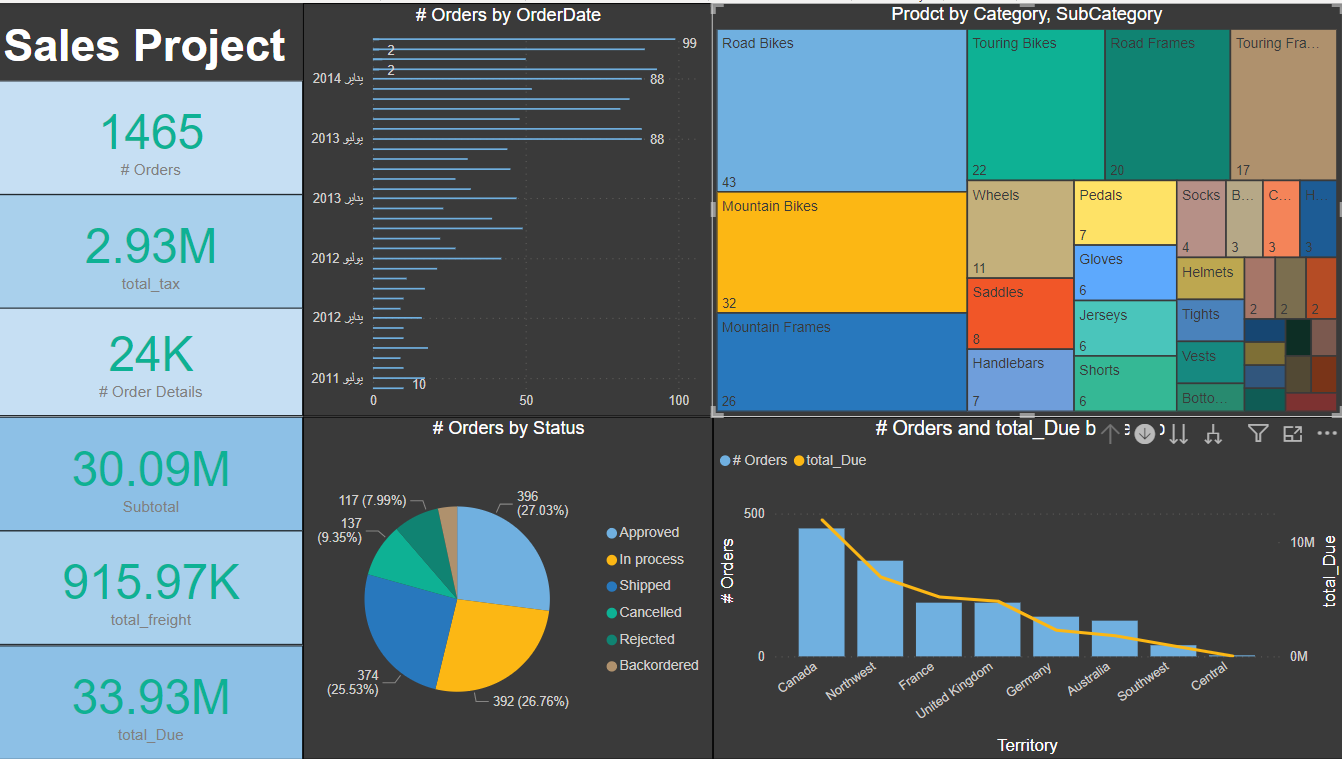

Layout of this report page (visuals, bound fields, positions):
{"tool":"powerbi","page":{"name":"overview","canvas":[1280,720],"ordinal":0},"visuals":[{"type":"card","fields":{"Values":["FactSales.# Orders"]},"box":[0,73.8,290,108.8],"z":0},{"type":"card","fields":{"Values":["FactSales.# Order Details"]},"box":[0,285,290,108.8],"z":1000},{"type":"card","fields":{"Values":["FactSales.Subtotal"]},"box":[0,393.8,290,108.8],"z":2000},{"type":"card","fields":{"Values":["FactSales.total_tax"]},"box":[0,182.5,290,108.8],"z":3000},{"type":"card","fields":{"Values":["FactSales.total_freight"]},"box":[0,502.5,290,108.8],"z":4000},{"type":"card","fields":{"Values":["FactSales.total_Due"]},"box":[0,611.2,290,108.8],"z":5000},{"type":"textbox","box":[0,0,290,73.8],"z":6000},{"type":"pieChart","fields":{"Category":["DimStatuses.Status"],"Y":["FactSales.# Orders"]},"box":[290.4,393.9,390.3,326.1],"z":8000},{"type":"treemap","title":"Prodct by Category, SubCategory","fields":{"Group":["DimProducts.ProductSubCategory","DimProducts.Product","DimProducts.ProductCategory"],"Values":["CountNonNull(DimProducts.ProductID)"]},"box":[680,0,600,393.8],"z":9000},{"type":"clusteredBarChart","fields":{"Category":["FactSales.OrderDate"],"Y":["FactSales.# Orders"]},"box":[290,0,390,393.8],"z":10000},{"type":"lineClusteredColumnComboChart","fields":{"Y":["FactSales.# Orders"],"Category":["DimTerritories.Territory"],"Y2":["FactSales.total_Due"]},"box":[680.7,393.9,599.8,326.1],"z":10001}]}

Visuals, with their boxes in screenshot pixels (x1, y1, x2, y2), scaled from the page's 1280x720 canvas onto the 1342x759 screenshot:
card - FactSales.# Orders: x1=0 y1=78 x2=304 y2=192
card - FactSales.# Order Details: x1=0 y1=300 x2=304 y2=415
card - FactSales.Subtotal: x1=0 y1=415 x2=304 y2=530
card - FactSales.total_tax: x1=0 y1=192 x2=304 y2=307
card - FactSales.total_freight: x1=0 y1=530 x2=304 y2=644
card - FactSales.total_Due: x1=0 y1=644 x2=304 y2=758
textbox: x1=0 y1=0 x2=304 y2=78
pieChart - DimStatuses.Status x FactSales.# Orders: x1=304 y1=415 x2=714 y2=758
"Prodct by Category, SubCategory" treemap: x1=713 y1=0 x2=1341 y2=415
clusteredBarChart - FactSales.OrderDate x FactSales.# Orders: x1=304 y1=0 x2=713 y2=415
lineClusteredColumnComboChart - FactSales.# Orders x DimTerritories.Territory: x1=714 y1=415 x2=1341 y2=758
